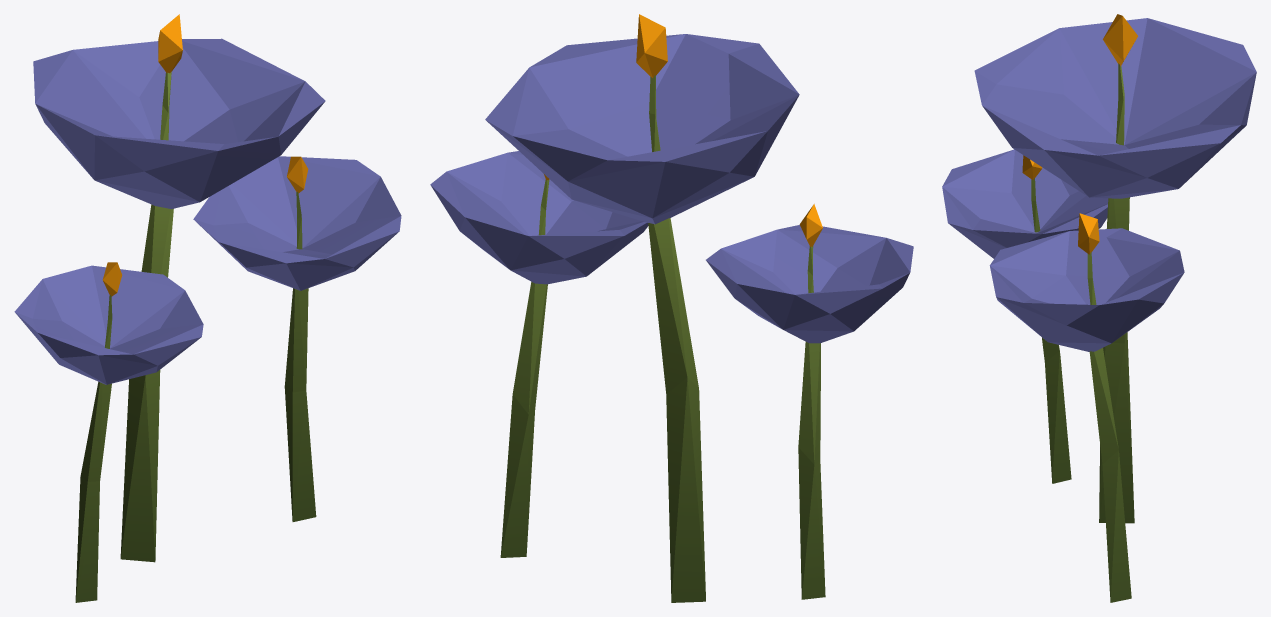
Rendered from Summer_Flower_05.glb.
3 renders of one model, left to right at view 1: azimuth 30°, elevation 25°; view 2: azimuth 150°, elevation 25°; view 3: azimuth 270°, elevation 25°, orthographic. The views are drawn at different scales.
Parts seen in each view (by area): view 1: Summer_Flower_05_LOD0; view 2: Summer_Flower_05_LOD0; view 3: Summer_Flower_05_LOD0.
Boxes of the visible parts, x1=… form: Summer_Flower_05_LOD0: x1=14, y1=14, x2=401, y2=602; Summer_Flower_05_LOD0: x1=430, y1=14, x2=913, y2=602; Summer_Flower_05_LOD0: x1=942, y1=14, x2=1256, y2=602.
Size of what is drawn, in the model's own units: 0.2086 by 0.2744 by 0.149.
Materials: 1 (1 with a texture image).
